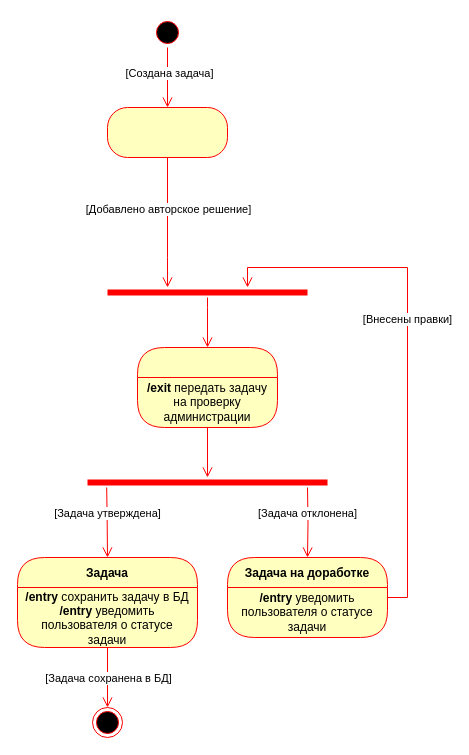
Image size: 469x755. Some labels were removed from this diagram. The box of each missing label's shape, as (x1, y1, x2, y2) in pixels:
Заготовка для задачи: (136, 346, 278, 428)
Заготовка для задачи (без решения): (106, 106, 228, 158)
